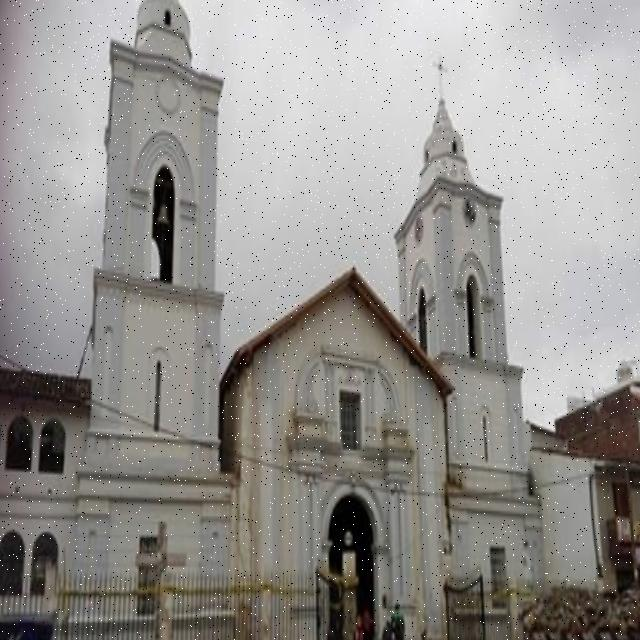CAMPANARIO: (82, 54, 242, 333), (411, 190, 512, 370)
CUPULA: (127, 0, 223, 90), (414, 108, 474, 214)
PORTADA CENTRAL: (314, 478, 384, 640)
SIMETRIA COLONIAL: (59, 0, 570, 640)
TORRES: (69, 0, 241, 640), (401, 80, 560, 640)
colonial-architecture-: (45, 0, 580, 640)
